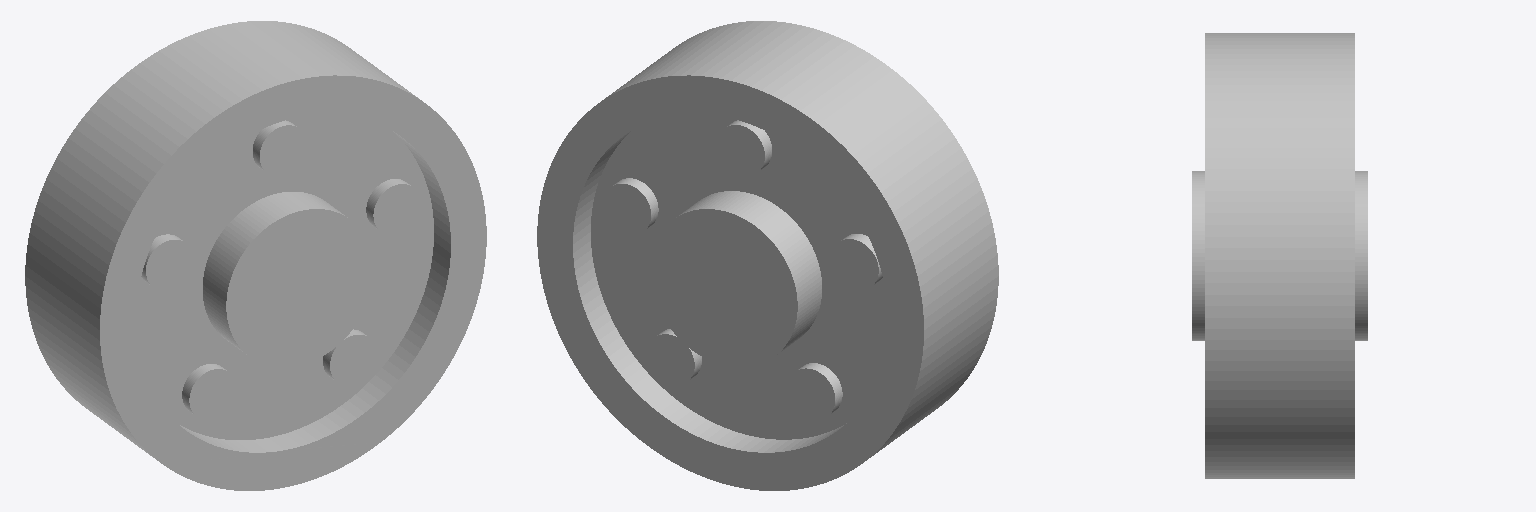
File: wheel2.obj
3 renders of one model, left to right at view 1: azimuth 30°, elevation 25°; view 2: azimuth 150°, elevation 25°; view 3: azimuth 270°, elevation 25°, orthographic.
Parts seen in each view (by area): view 1: Object.1; view 2: Object.1; view 3: Object.1.
Part boxes in pixels (bbox=[...]): Object.1: bbox=[25, 21, 486, 490]; Object.1: bbox=[537, 21, 998, 490]; Object.1: bbox=[1192, 33, 1367, 478].
Bounding box in the file's own units: 1.08 × 1.08 × 0.4272.